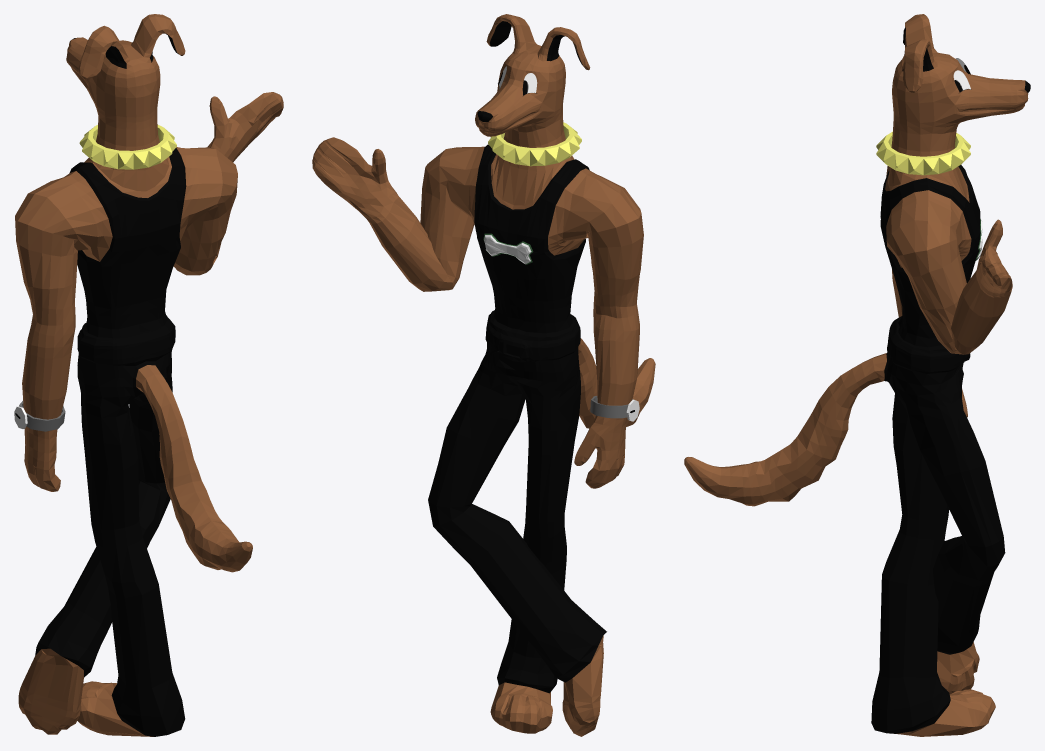
File: doggyman.fbx
The picture shows the model from 3 angles, left to right: view 1: azimuth 30°, elevation 25°; view 2: azimuth 150°, elevation 25°; view 3: azimuth 270°, elevation 25°; orthographic projection. The views are drawn at different scales.
Visible parts, largest first — view 1: doggyman_1, collar, Tube; view 2: doggyman_1, collar; view 3: doggyman_1, collar.
Part boxes in pixels (<box>): doggyman_1: <box>15,14,283,736</box>; collar: <box>79,125,176,169</box>; Tube: <box>19,401,65,431</box>; doggyman_1: <box>312,14,655,736</box>; collar: <box>488,122,581,166</box>; doggyman_1: <box>684,14,1030,736</box>; collar: <box>876,131,970,175</box>.
Bounding box in the file's own units: 505 × 1143 × 510.
Materials: 8 (2 with a texture image).
